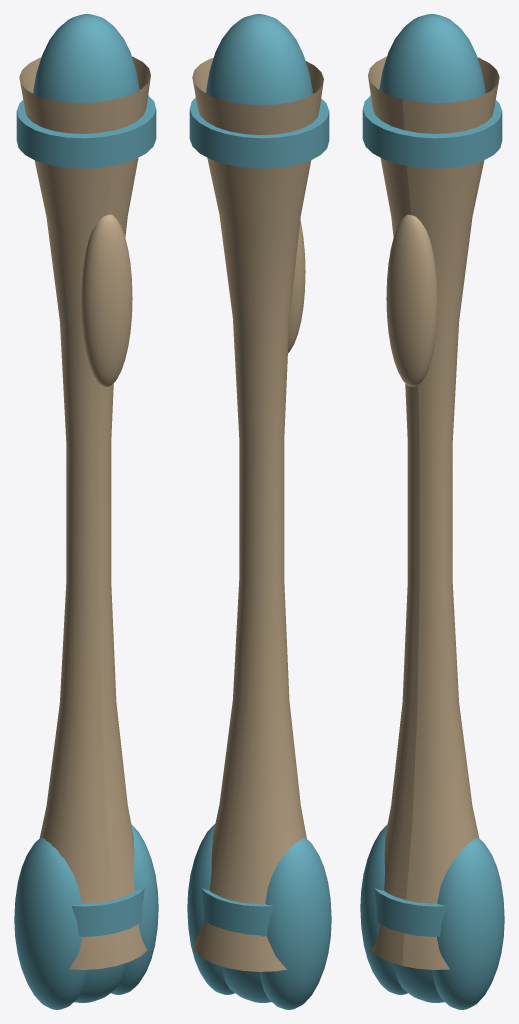
The model's file is left_tibia.glb.
The picture shows the model from 3 angles, left to right: view 1: azimuth 30°, elevation 25°; view 2: azimuth 150°, elevation 25°; view 3: azimuth 330°, elevation 25°; orthographic projection.
Visible parts, largest first — view 1: left_tibia:diaphysis, left_tibia:condyle--1, left_tibia:proximal-envelope, left_tibia:tibial-tuberosity, left_tibia:proximal-epiphyseal-plate, left_tibia:condyle-1, left_tibia:distal-epiphyseal-plate, left_tibia:distal-envelope; view 2: left_tibia:diaphysis, left_tibia:condyle--1, left_tibia:proximal-envelope, left_tibia:proximal-epiphyseal-plate, left_tibia:condyle-1, left_tibia:distal-epiphyseal-plate, left_tibia:tibial-tuberosity, left_tibia:distal-envelope; view 3: left_tibia:diaphysis, left_tibia:condyle-1, left_tibia:proximal-envelope, left_tibia:tibial-tuberosity, left_tibia:proximal-epiphyseal-plate, left_tibia:condyle--1, left_tibia:distal-epiphyseal-plate, left_tibia:distal-envelope.
Part boxes in pixels (x1,y1,x2,y2): left_tibia:diaphysis: (19,56,150,969); left_tibia:condyle--1: (14,837,86,1009); left_tibia:proximal-envelope: (33,14,139,103); left_tibia:tibial-tuberosity: (81,214,132,386); left_tibia:proximal-epiphyseal-plate: (16,95,156,168); left_tibia:condyle-1: (111,824,158,994); left_tibia:distal-epiphyseal-plate: (71,888,144,936); left_tibia:distal-envelope: (74,963,124,1002); left_tibia:diaphysis: (192,57,323,971); left_tibia:condyle--1: (259,837,331,1009); left_tibia:proximal-envelope: (206,14,312,105); left_tibia:proximal-epiphyseal-plate: (189,97,329,168); left_tibia:condyle-1: (187,824,234,994); left_tibia:distal-epiphyseal-plate: (201,888,274,936); left_tibia:tibial-tuberosity: (288,220,305,352); left_tibia:distal-envelope: (221,966,271,1002); left_tibia:diaphysis: (368,56,499,969); left_tibia:condyle-1: (432,837,504,1009); left_tibia:proximal-envelope: (379,14,485,103); left_tibia:tibial-tuberosity: (386,214,437,386); left_tibia:proximal-epiphyseal-plate: (362,95,502,168); left_tibia:condyle--1: (360,824,407,994); left_tibia:distal-epiphyseal-plate: (374,888,447,936); left_tibia:distal-envelope: (394,963,444,1002).
Bounding box in the file's own units: 0.1188 × 0.8624 × 0.1056.
